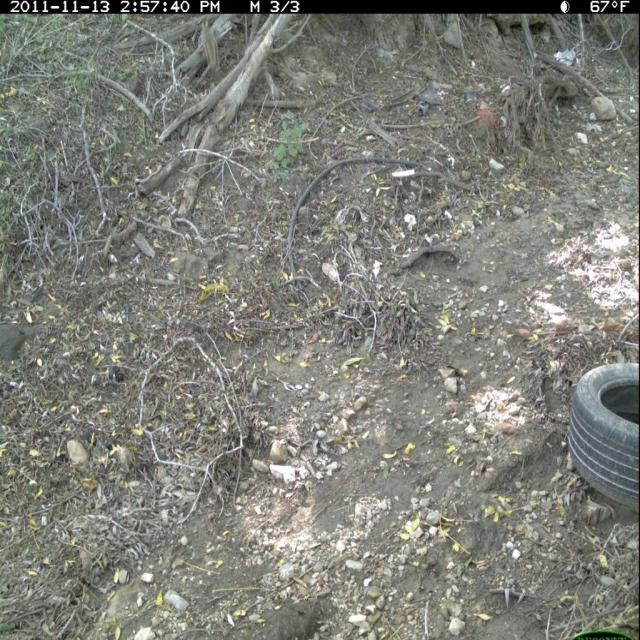squirrel: (196, 18, 225, 77)
